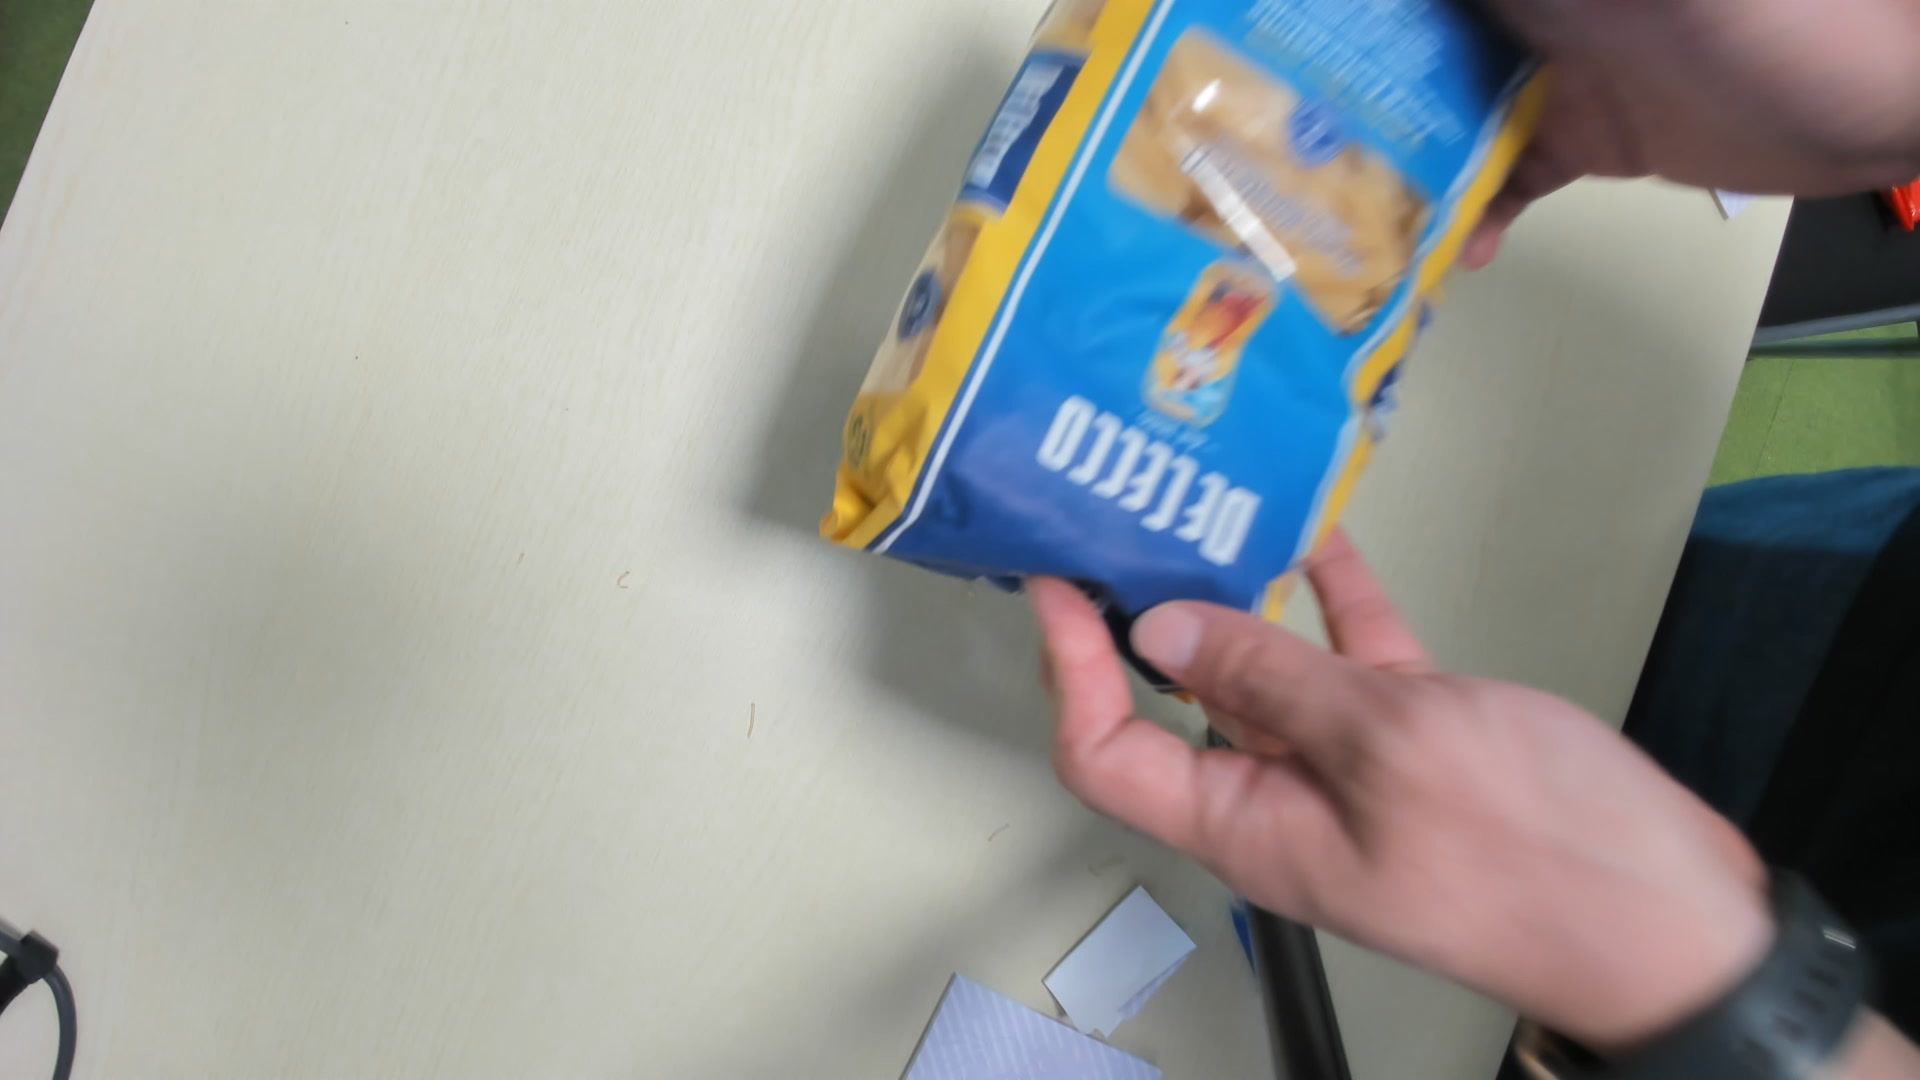Pasta_500-599g_NonHalal_NonHealthy: (811, 3, 1545, 630)
